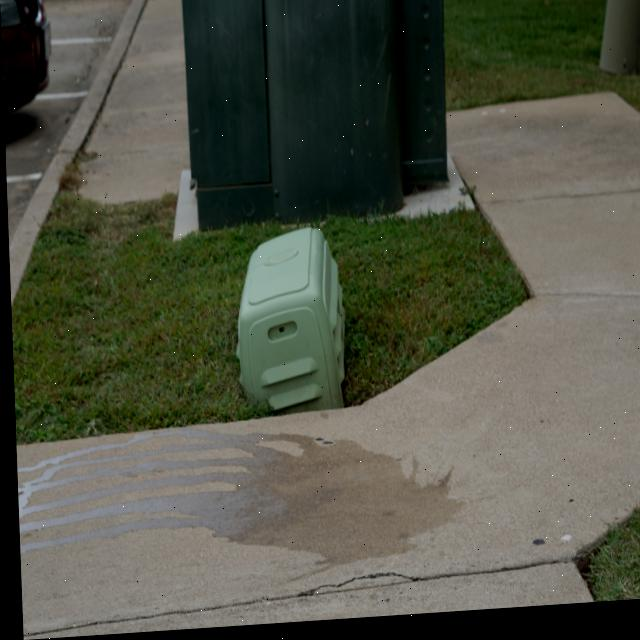Automobile: (0, 0, 51, 114)
Obstacle: (182, 0, 446, 233), (234, 232, 341, 416), (599, 0, 640, 83)
Sidewalk: (13, 101, 640, 640), (41, 0, 186, 196)
